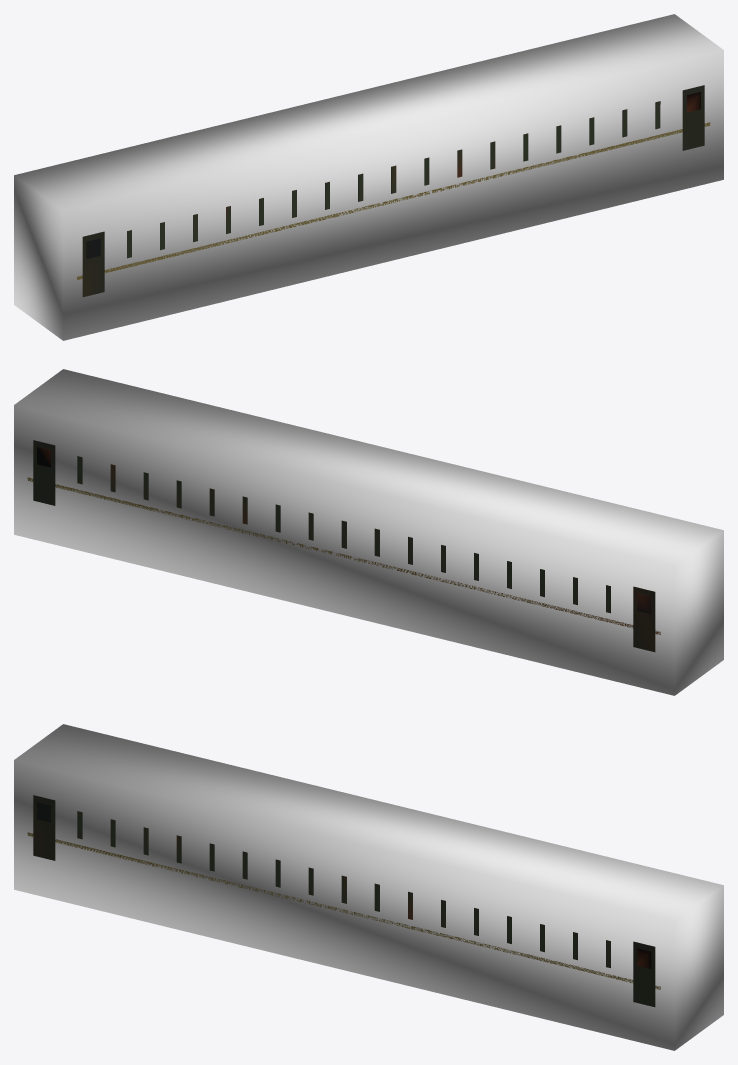
File: coche_tren.glb
3 views of the same model, one above another, from view 1: azimuth 30°, elevation 25°; view 2: azimuth 150°, elevation 25°; view 3: azimuth 330°, elevation 25° (orthographic).
Visible parts, largest first — view 1: coche_tren-colcaja, coche_tren; view 2: coche_tren-colcaja, coche_tren; view 3: coche_tren-colcaja, coche_tren.
Boxes of the visible parts, <box> form: coche_tren-colcaja: <box>14,14,723,340</box>; coche_tren: <box>77,85,710,297</box>; coche_tren-colcaja: <box>14,369,723,695</box>; coche_tren: <box>27,440,660,652</box>; coche_tren-colcaja: <box>14,724,723,1050</box>; coche_tren: <box>27,795,660,1007</box>.
Size of the model in its own units: 24 by 4.5 by 3.14.
